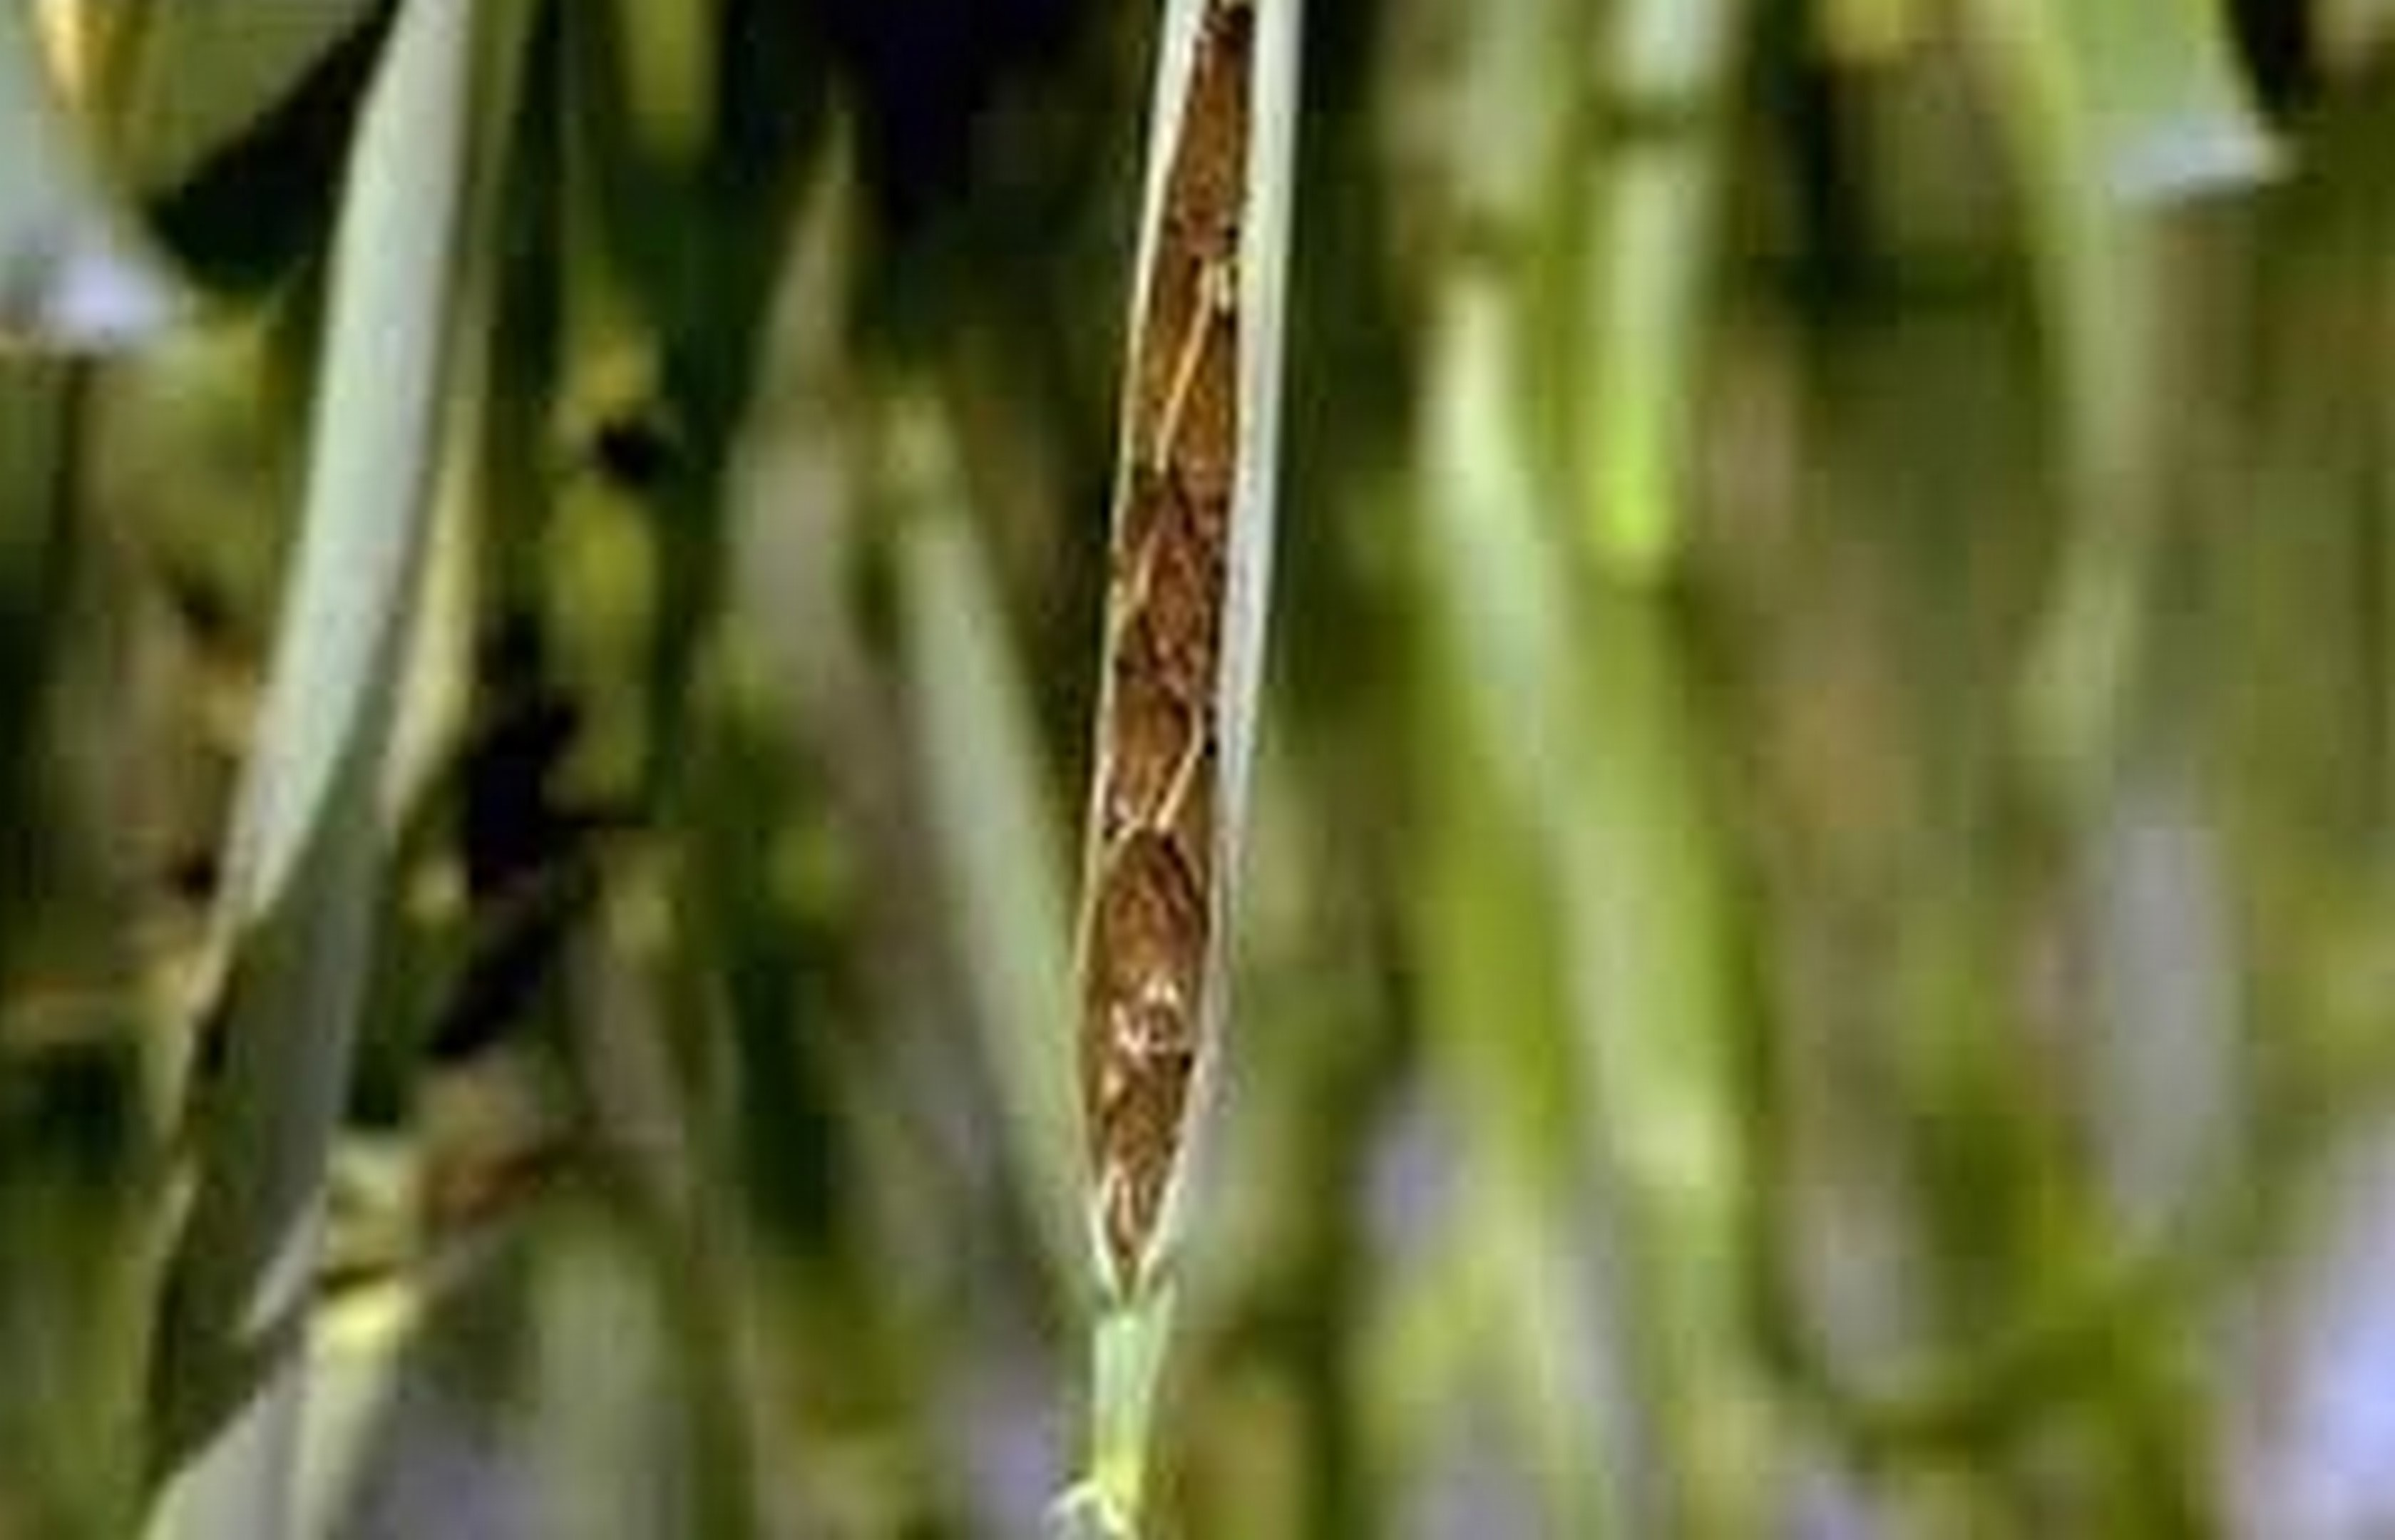Wheat Loose Smut: (1060, 98, 1349, 1233)
